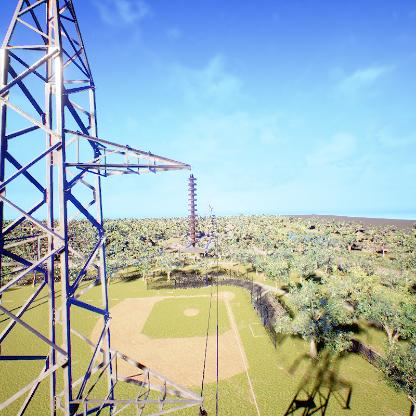insulator: (185, 176, 199, 247)
